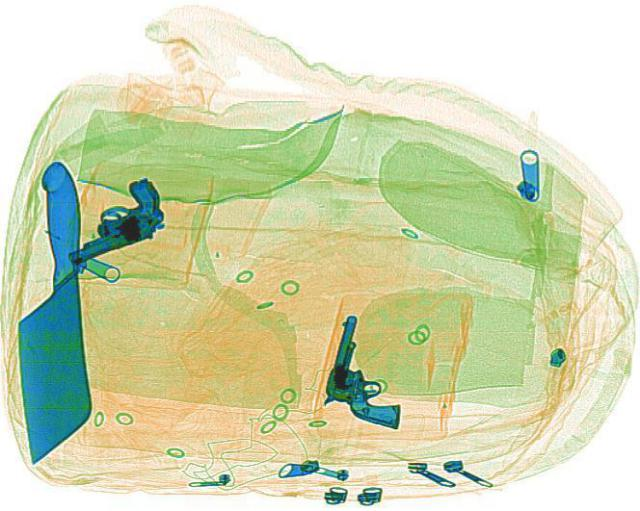Gun: (315, 312, 423, 428), (39, 175, 179, 262)
Knife: (6, 160, 92, 463)
